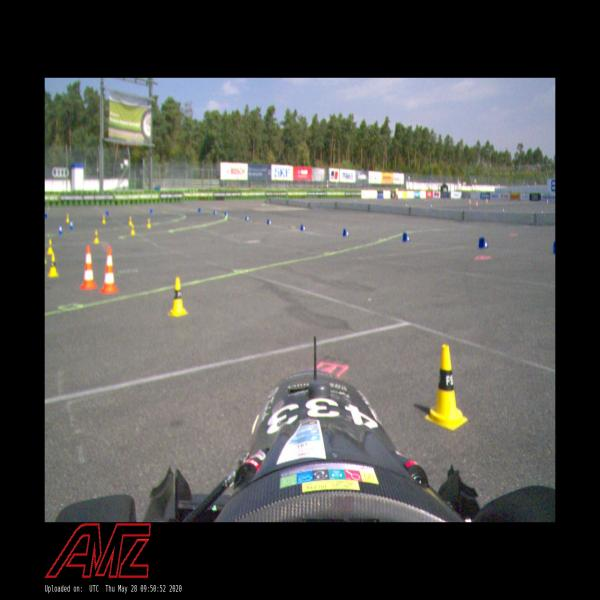blue_cone: (478, 236, 489, 250), (402, 232, 410, 243), (342, 229, 350, 237), (58, 224, 63, 235), (69, 219, 73, 230), (300, 224, 306, 231), (266, 219, 272, 224), (245, 215, 250, 221)
large_orange_cone: (99, 246, 119, 295), (79, 245, 98, 290)
yellow_cone: (425, 343, 467, 429), (168, 277, 188, 317), (48, 254, 58, 277), (47, 239, 53, 255), (94, 229, 99, 244), (130, 224, 136, 235), (146, 218, 151, 229), (102, 214, 107, 224), (128, 216, 132, 226)
